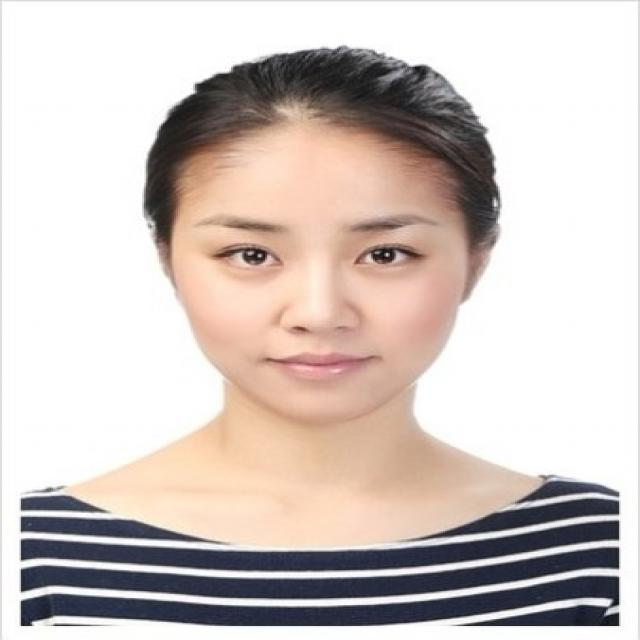Nonhelmet: (139, 43, 504, 427)
